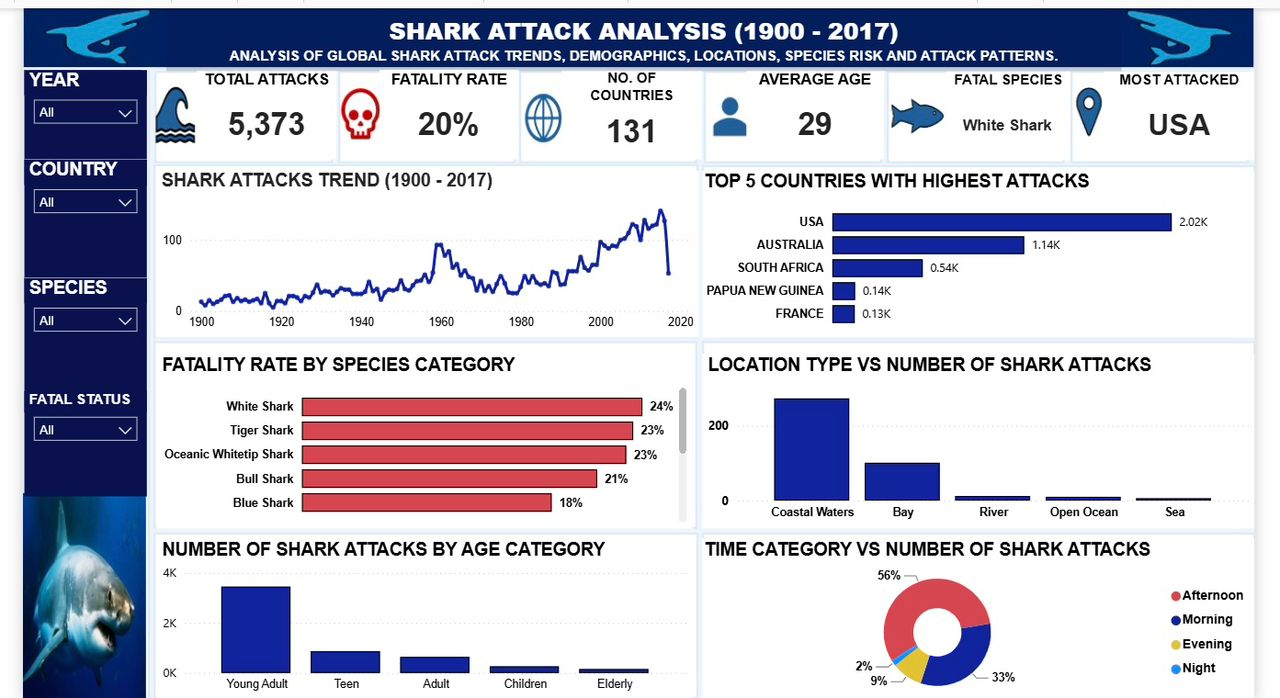

Layout of this report page (visuals, bound fields, positions):
{"tool":"powerbi","page":{"name":"Page 1","canvas":[1280,720],"ordinal":0},"visuals":[{"type":"cardVisual","title":"TOTAL ATTACKS","fields":{"Data":["Measure Table.Total_Shark_Attacks"]},"box":[180.2,65.1,145.4,92.4],"z":0},{"type":"cardVisual","title":"NO. OF COUNTRIES","fields":{"Data":["Measure Table.Total_Affected_Countries"]},"box":[560.3,65.1,145.4,92.4],"z":1000},{"type":"cardVisual","title":"AVERAGE AGE","fields":{"Data":["Measure Table.Average_Victim_Age"]},"box":[752.6,65.1,142.3,92.4],"z":2000},{"type":"cardVisual","title":"FATAL SPECIES","fields":{"Data":["Measure Table.Most_Fatal_Species"]},"box":[959.1,65.2,128.8,92.3],"z":3000},{"type":"cardVisual","title":"MOST ATTACKED","fields":{"Data":["Measure Table.Most_Attacked_Country"]},"box":[1123,65.2,157.5,92.3],"z":4000},{"type":"textbox","box":[149.5,0,992.5,65.2],"z":5000},{"type":"cardVisual","title":"FATALITY RATE","fields":{"Data":["Measure Table.Fatality_Rate"]},"box":[371,65.1,143.8,92.4],"z":6000},{"type":"clusteredBarChart","title":"TOP 5 COUNTRIES WITH HIGHEST ATTACKS","fields":{"Category":["DIM_Injury Table- Shark attacks.Final_Country"],"Y":["MEASURE_TABLE.Total_Shark_Attacks"]},"box":[706.2,168.6,574.2,173.4],"z":7000},{"type":"clusteredBarChart","title":"FATALITY RATE BY SPECIES CATEGORY","fields":{"Category":["DIM_Injury Table- Shark attacks.Species Category"],"Y":["MEASURE_TABLE.Fatality_Rate"]},"box":[138.4,359.5,556.7,181.3],"z":8000},{"type":"clusteredColumnChart","title":"LOCATION TYPE VS NUMBER OF SHARK ATTACKS","fields":{"Y":["MEASURE_TABLE.Total_Shark_Attacks"],"Category":["DIM_Injury Table- Shark attacks.Location_Type"]},"box":[706.2,359.5,574.2,181.3],"z":9000},{"type":"clusteredColumnChart","title":"NUMBER OF SHARK ATTACKS BY AGE CATEGORY","fields":{"Y":["MEASURE_TABLE.Total_Shark_Attacks"],"Category":["DIM_ Victim Table- Shark attacks.Age Category"]},"box":[138.4,551.9,556.7,168.6],"z":10000},{"type":"donutChart","title":"TIME CATEGORY VS NUMBER OF SHARK ATTACKS","fields":{"Y":["MEASURE_TABLE.Total_Shark_Attacks"],"Category":["DIM_Injury Table- Shark attacks.Time Category"]},"box":[706.2,551.9,574,169],"z":11000},{"type":"slicer","title":"YEAR","fields":{"Values":["DIM_Injury Table- Shark attacks.Year"]},"box":[1.5,65.1,127.2,92.4],"z":12000},{"type":"slicer","title":"COUNTRY","fields":{"Values":["DIM_Injury Table- Shark attacks.Final_Country"]},"box":[1.5,157.5,127.2,122.7],"z":13000},{"type":"slicer","title":"SPECIES","fields":{"Values":["DIM_Injury Table- Shark attacks.Species Category"]},"box":[1.5,280.1,127.2,118.1],"z":14000},{"type":"slicer","title":"FATAL STATUS","fields":{"Values":["DIM_Injury Table- Shark attacks.Fatal (Y/N) Cleaned"]},"box":[1.5,398.2,127.2,109],"z":15000},{"type":"lineChart","title":"SHARK ATTACKS TREND (1900 - 2017)","fields":{"Category":["DIM_Injury Table- Shark attacks.Year"],"Y":["MEASURE_TABLE.Total_Shark_Attacks"]},"box":[138.4,168.6,563,173.4],"z":16000}]}

Visuals, with their boxes in screenshot pixels (x1, y1, x2, y2):
"TOTAL ATTACKS" cardVisual: 195/64/339/156
"NO. OF COUNTRIES" cardVisual: 571/64/715/156
"AVERAGE AGE" cardVisual: 761/64/902/156
"FATAL SPECIES" cardVisual: 965/65/1093/156
"MOST ATTACKED" cardVisual: 1128/65/1279/156
textbox: 165/0/1146/65
"FATALITY RATE" cardVisual: 384/64/526/156
"TOP 5 COUNTRIES WITH HIGHEST ATTACKS" clusteredBarChart: 715/167/1279/338
"FATALITY RATE BY SPECIES CATEGORY" clusteredBarChart: 154/356/704/535
"LOCATION TYPE VS NUMBER OF SHARK ATTACKS" clusteredColumnChart: 715/356/1279/535
"NUMBER OF SHARK ATTACKS BY AGE CATEGORY" clusteredColumnChart: 154/546/704/697
"TIME CATEGORY VS NUMBER OF SHARK ATTACKS" donutChart: 715/546/1279/697
"YEAR" slicer: 18/64/144/156
"COUNTRY" slicer: 18/156/144/277
"SPECIES" slicer: 18/277/144/394
"FATAL STATUS" slicer: 18/394/144/502
"SHARK ATTACKS TREND (1900 - 2017)" lineChart: 154/167/711/338
